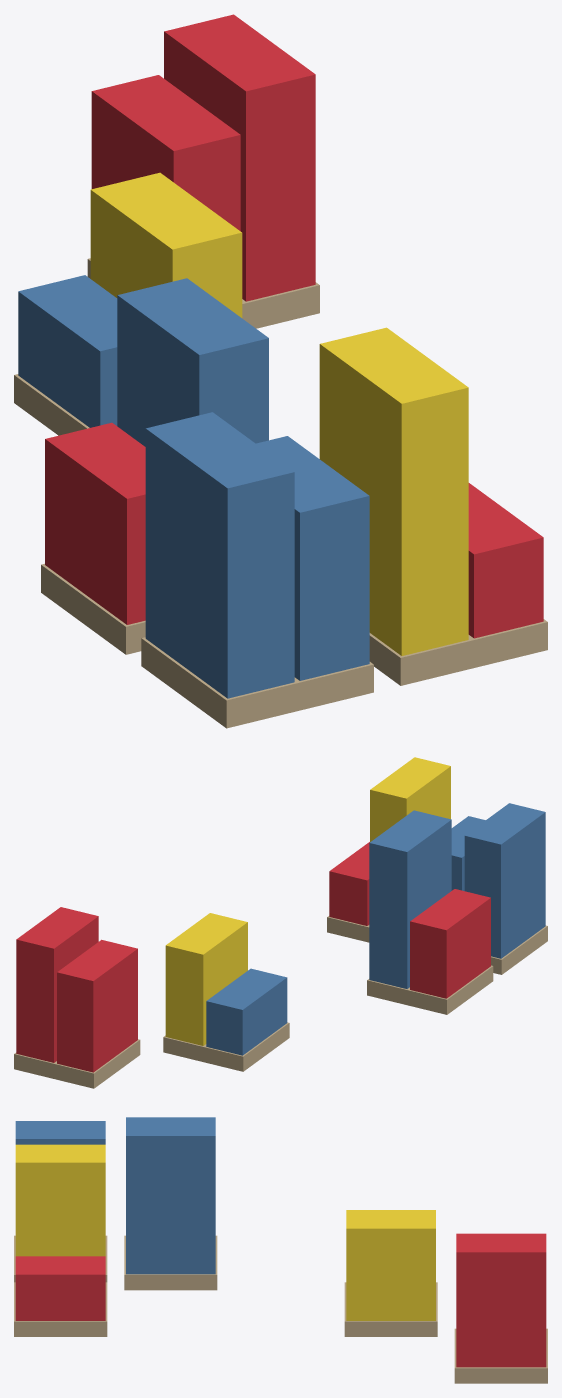
File: port_cargo1.fbx
3 renders of one model, top to bottom at view 1: azimuth 30°, elevation 25°; view 2: azimuth 150°, elevation 25°; view 3: azimuth 270°, elevation 25°, orthographic. The views are drawn at different scales.
Parts seen in each view (by area): view 1: a1001_0_port_cargo1; view 2: a1001_0_port_cargo1; view 3: a1001_0_port_cargo1.
Boxes of the visible parts, <box> form: a1001_0_port_cargo1: <box>14,14,547,728</box>; a1001_0_port_cargo1: <box>14,757,547,1088</box>; a1001_0_port_cargo1: <box>14,1117,547,1383</box>.
Bounding box in the file's own units: 3.7 × 2 × 6.3.
